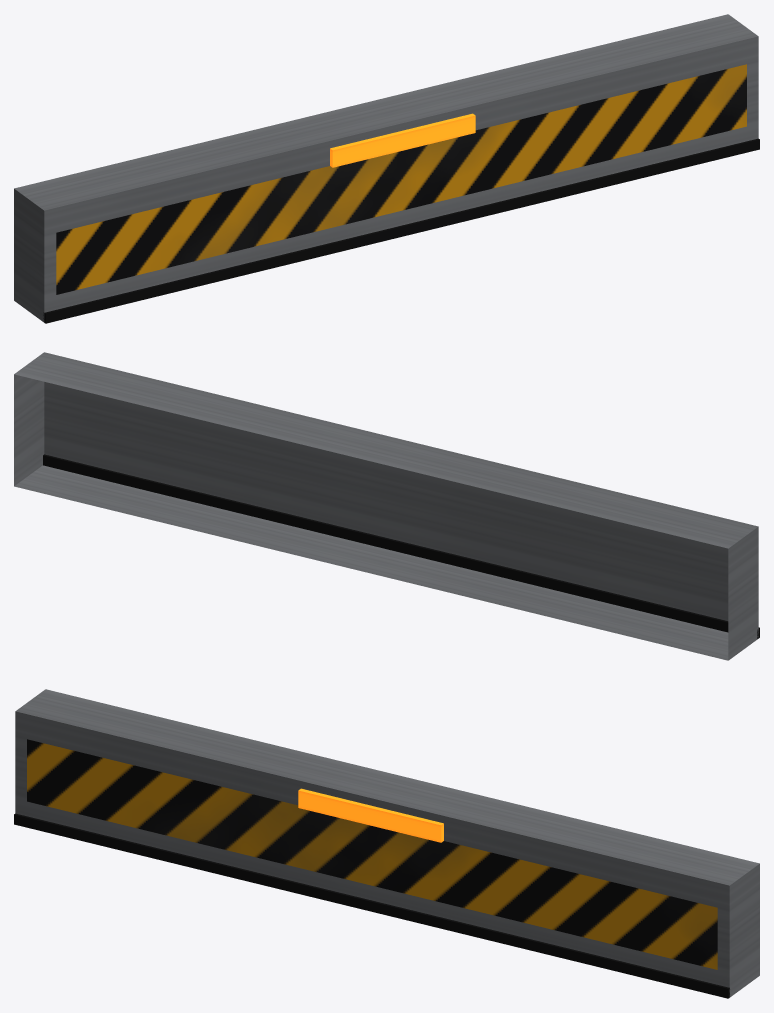
Rendered from SM_LFD_B4_DoorHeader_3.fbx.
3 renders of one model, top to bottom at view 1: azimuth 30°, elevation 25°; view 2: azimuth 150°, elevation 25°; view 3: azimuth 330°, elevation 25°, orthographic.
Visible parts, largest first — view 1: SM_LFD_B4_DoorHeader_3; view 2: SM_LFD_B4_DoorHeader_3; view 3: SM_LFD_B4_DoorHeader_3.
Part boxes in pixels (bbox=[...]): SM_LFD_B4_DoorHeader_3: bbox=[14, 14, 759, 323]; SM_LFD_B4_DoorHeader_3: bbox=[14, 352, 759, 660]; SM_LFD_B4_DoorHeader_3: bbox=[14, 689, 759, 998].
Size of the model in its own units: 3 by 0.45 by 0.24.
